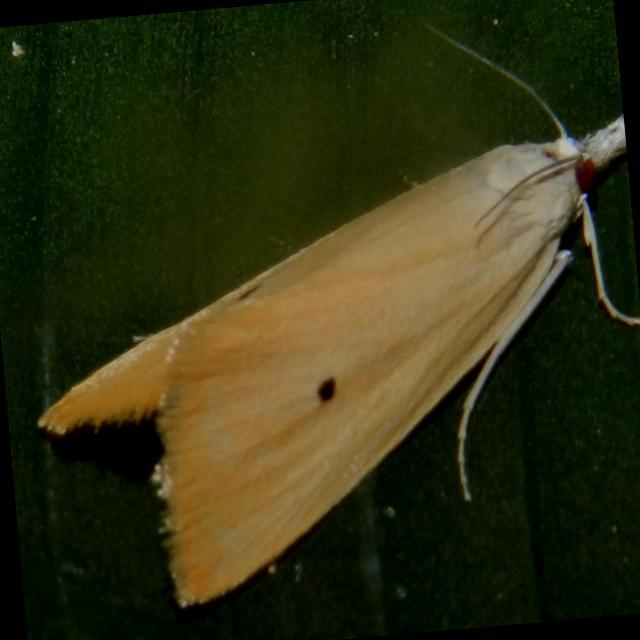stem borer: (39, 28, 639, 607)
